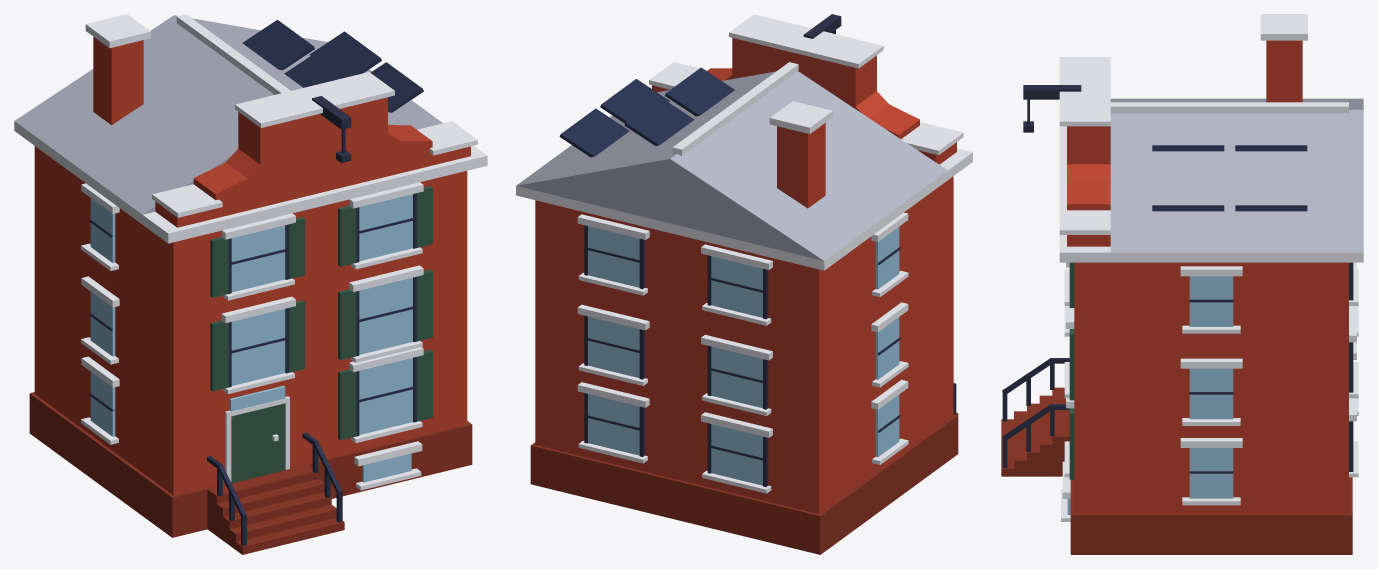
Rendered from house-1x1-3f-dutch-a-solar.glb.
3 renders of one model, left to right at view 1: azimuth 30°, elevation 25°; view 2: azimuth 150°, elevation 25°; view 3: azimuth 270°, elevation 25°, orthographic. The views are drawn at different scales.
Visible parts, largest first — view 1: house-1x1-3f-dutch-a-solar; view 2: house-1x1-3f-dutch-a-solar; view 3: house-1x1-3f-dutch-a-solar.
Part boxes in pixels (x1,y1,x2,y2): house-1x1-3f-dutch-a-solar: (14, 14, 487, 554); house-1x1-3f-dutch-a-solar: (516, 14, 972, 554); house-1x1-3f-dutch-a-solar: (1001, 14, 1363, 554).
Bounding box in the file's own units: 1 × 1.25 × 0.995.
1 material, 1 textured.
